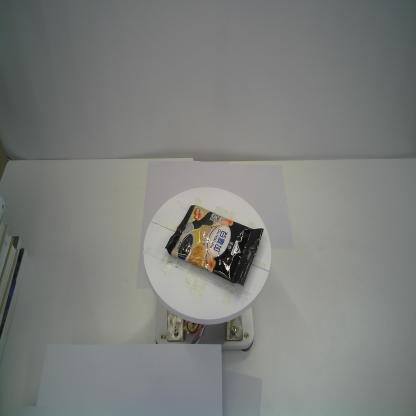Instant Drink: (164, 205, 264, 286)
